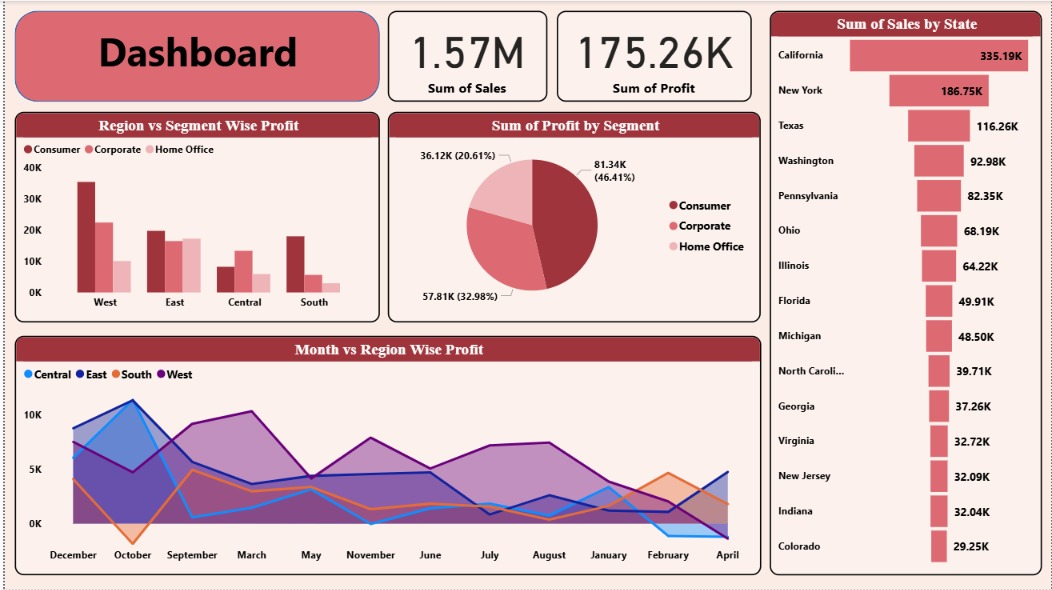

This screenshot's page, from the dashboard's own definition file:
{"tool":"powerbi","page":{"name":"Dashboard","canvas":[1280,720],"ordinal":8},"visuals":[{"type":"clusteredColumnChart","title":"Region vs Segment Wise Profit","fields":{"Category":["Sheet1.Region"],"Y":["Sum(Sheet1.Profit)"],"Series":["Sheet1.Segment"]},"box":[12.5,136.2,446.2,257.5],"z":0},{"type":"areaChart","title":"Month vs Region Wise Profit","fields":{"Category":["Sheet1.Month"],"Y":["Sum(Sheet1.Profit)"],"Series":["Sheet1.Region"]},"box":[12.5,410,912.5,292.5],"z":1},{"type":"pieChart","fields":{"Category":["Sheet1.Segment"],"Y":["Sum(Sheet1.Profit)"]},"box":[468.8,136.2,456.2,257.5],"z":2},{"type":"funnel","fields":{"Category":["Sheet1.State"],"Y":["Sum(Sheet1.Sales)"]},"box":[935,12.5,332.5,690],"z":3},{"type":"card","fields":{"Values":["Sum(Sheet1.Profit)"]},"box":[675,12.5,238.8,111.2],"z":4},{"type":"card","fields":{"Values":["Sum(Sheet1.Sales)"]},"box":[468.8,12.5,195,111.2],"z":5},{"type":"shape","box":[12.5,12.5,446.2,111.2],"z":6},{"type":"textbox","box":[36.2,23.8,398.8,88.8],"z":8}]}

Visuals, with their boxes in screenshot pixels (x1, y1, x2, y2), scaled from the page's 1280x720 canvas onto the 1052x590 screenshot:
"Region vs Segment Wise Profit" clusteredColumnChart: l=10, t=112, r=377, b=323
"Month vs Region Wise Profit" areaChart: l=10, t=336, r=760, b=576
pieChart - Sheet1.Segment x Sum(Sheet1.Profit): l=385, t=112, r=760, b=323
funnel - Sheet1.State x Sum(Sheet1.Sales): l=768, t=10, r=1042, b=576
card - Sum(Sheet1.Profit): l=555, t=10, r=751, b=101
card - Sum(Sheet1.Sales): l=385, t=10, r=546, b=101
shape: l=10, t=10, r=377, b=101
textbox: l=30, t=20, r=358, b=92
